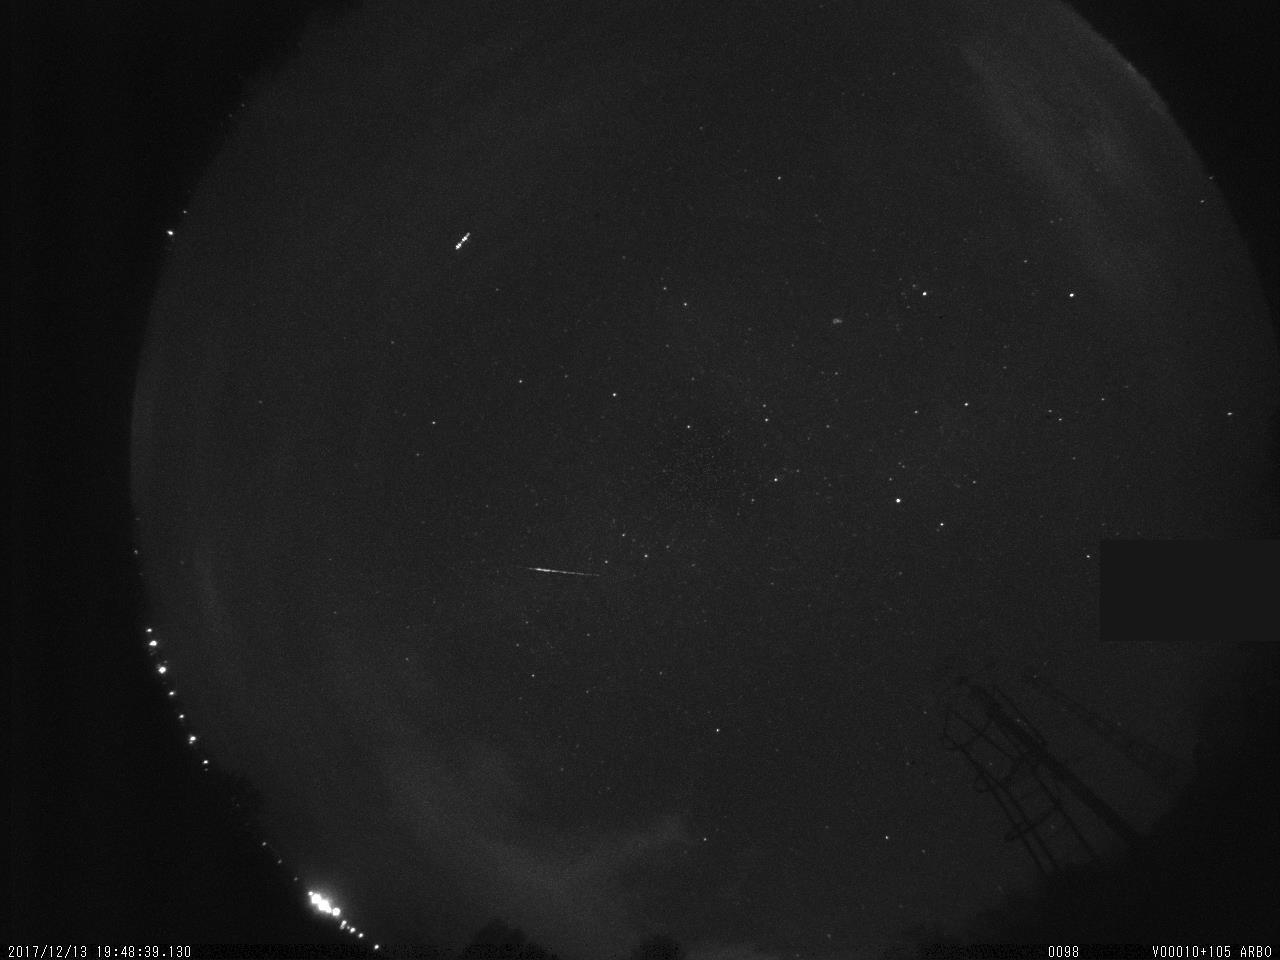meteor: (514, 557, 608, 585)
satelite: (451, 224, 475, 255)
